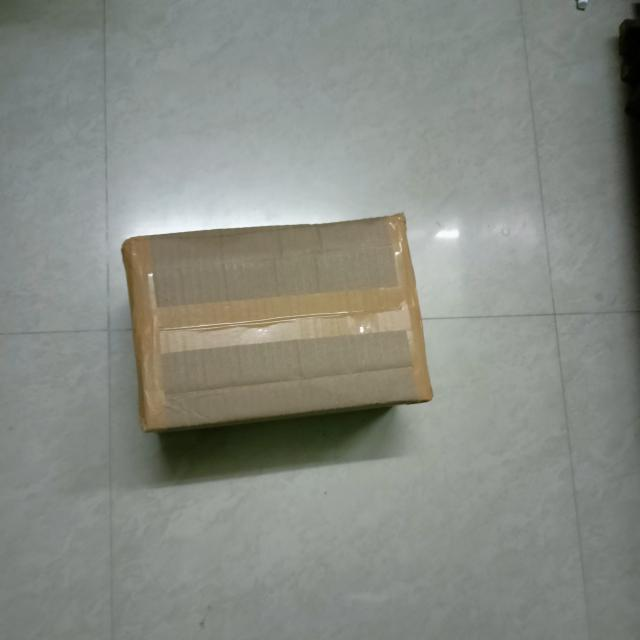box: (126, 215, 433, 432)
